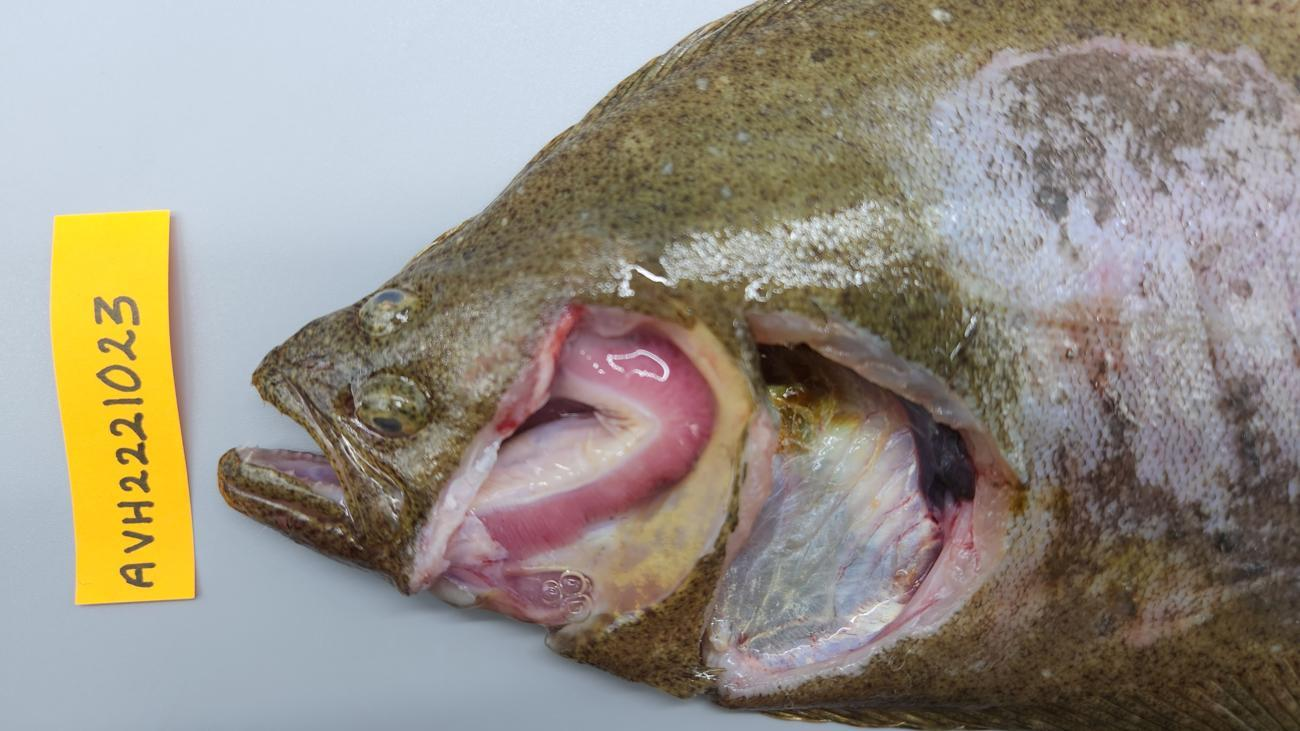VIKIE: (905, 405, 968, 512)
